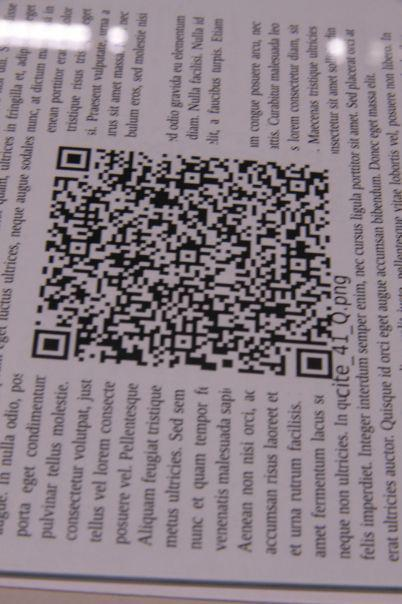Finder pattern: (291, 345, 341, 385), (27, 327, 75, 367), (52, 142, 95, 177)
